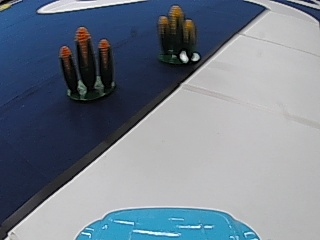corn: (58, 29, 118, 101), (156, 6, 200, 65)
